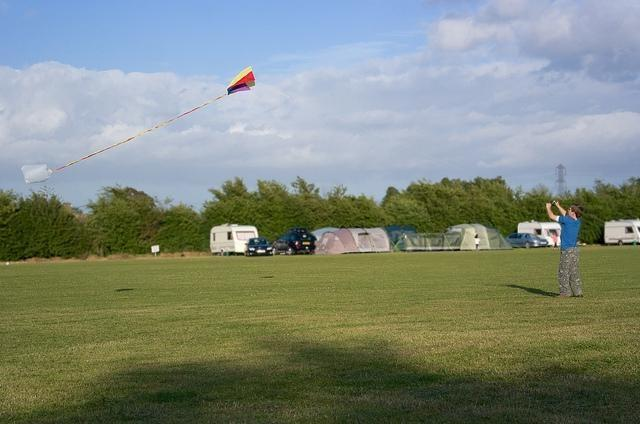car: (272, 227, 316, 256), (506, 232, 548, 248), (245, 238, 272, 256)
truck: (210, 226, 260, 256), (518, 221, 563, 248), (604, 218, 640, 246)
